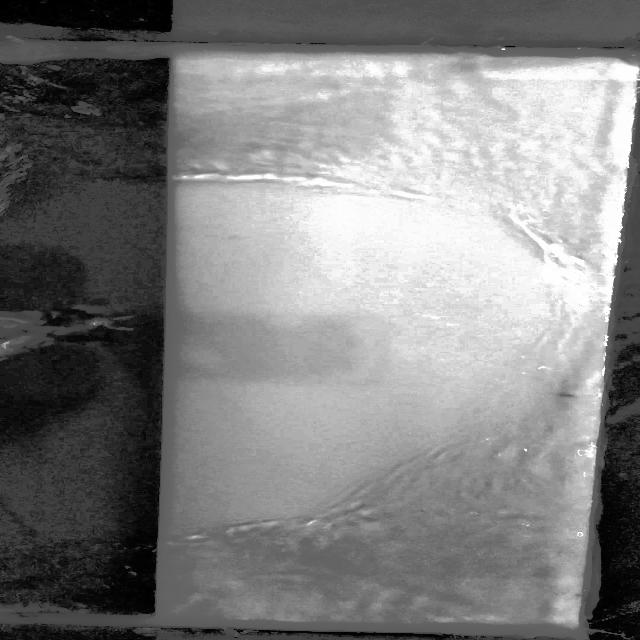shrimp: (548, 386, 578, 406)
